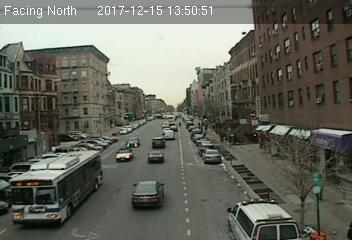bus: (5, 150, 102, 225)
car: (132, 180, 166, 208), (202, 149, 221, 164), (115, 147, 134, 161), (145, 151, 165, 162), (126, 136, 141, 148), (152, 136, 166, 148), (163, 131, 175, 139)
police: (225, 196, 302, 240)
